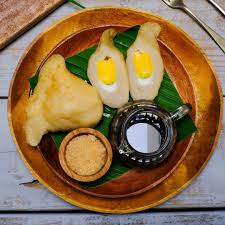Pempek kapal selam: (25, 50, 101, 142), (91, 22, 168, 108)
